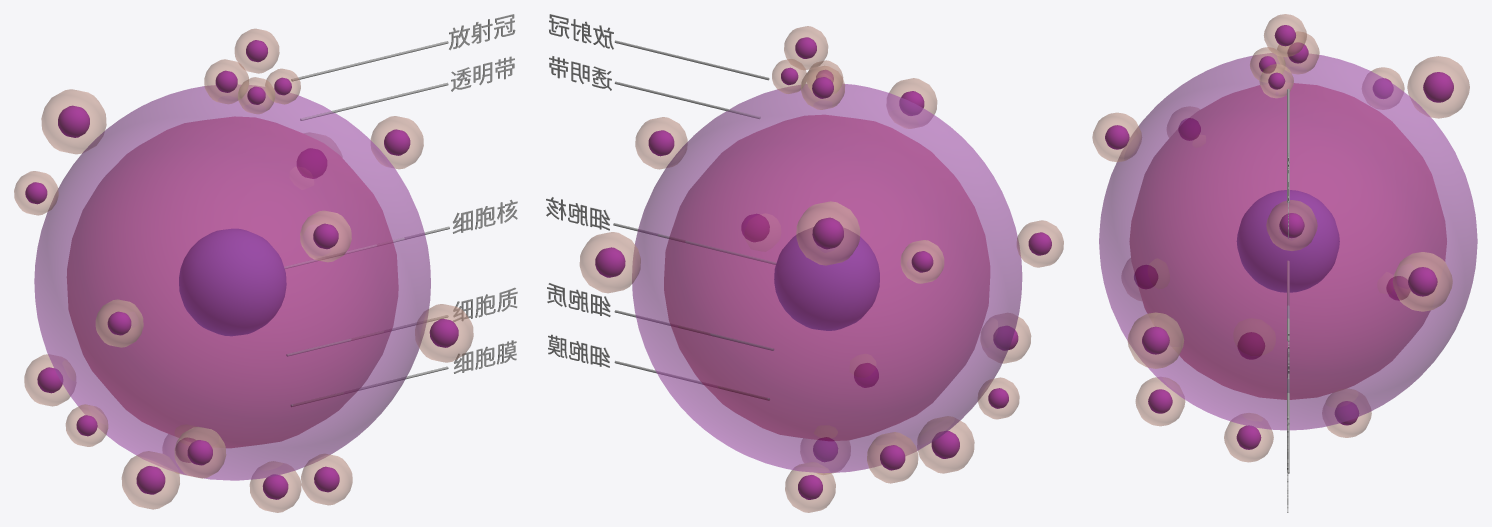
The model's file is luanzi.fbx.
The picture shows the model from 3 angles, left to right: view 1: azimuth 30°, elevation 25°; view 2: azimuth 150°, elevation 25°; view 3: azimuth 270°, elevation 25°; orthographic projection. The views are drawn at different scales.
Parts seen in each view (by area): view 1: waimo, zhongmo, sqiu_wai1, neihe, sqiu_nei1, gun, xibaomo, xibaohe, xibaozhi, fangsheguan, toumingdai; view 2: waimo, zhongmo, sqiu_wai1, sqiu_nei1, neihe, gun, xibaomo, xibaozhi, xibaohe, toumingdai, fangsheguan; view 3: waimo, zhongmo, sqiu_wai1, sqiu_nei1, neihe, gun.
Boxes of the visible parts, left/top/right/bottom form: waimo: left=34, top=84, right=430, bottom=480; zhongmo: left=67, top=116, right=398, bottom=447; sqiu_wai1: left=14, top=28, right=473, bottom=512; neihe: left=179, top=229, right=286, bottom=335; sqiu_nei1: left=25, top=40, right=458, bottom=499; gun: left=284, top=41, right=449, bottom=406; xibaomo: left=454, top=340, right=516, bottom=373; xibaohe: left=453, top=199, right=517, bottom=233; xibaozhi: left=453, top=287, right=517, bottom=321; fangsheguan: left=449, top=14, right=515, bottom=50; toumingdai: left=451, top=56, right=514, bottom=91; waimo: left=632, top=84, right=1022, bottom=473; zhongmo: left=664, top=115, right=989, bottom=440; sqiu_wai1: left=579, top=26, right=1063, bottom=512; sqiu_nei1: left=595, top=37, right=1051, bottom=499; neihe: left=774, top=228, right=879, bottom=330; gun: left=613, top=40, right=776, bottom=400; xibaomo: left=548, top=334, right=609, bottom=367; xibaozhi: left=547, top=283, right=610, bottom=316; xibaohe: left=546, top=197, right=609, bottom=230; toumingdai: left=549, top=56, right=611, bottom=90; fangsheguan: left=549, top=14, right=613, bottom=49; waimo: left=1099, top=53, right=1477, bottom=430; zhongmo: left=1129, top=83, right=1446, bottom=399; sqiu_wai1: left=1092, top=14, right=1469, bottom=462; sqiu_nei1: left=1105, top=25, right=1453, bottom=449; neihe: left=1237, top=190, right=1339, bottom=292; gun: left=1287, top=89, right=1289, bottom=473.
Size of the model in its own units: 24.12 by 22.8 by 17.91.
